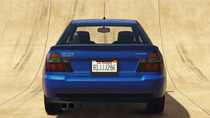car: (39, 16, 170, 115)
